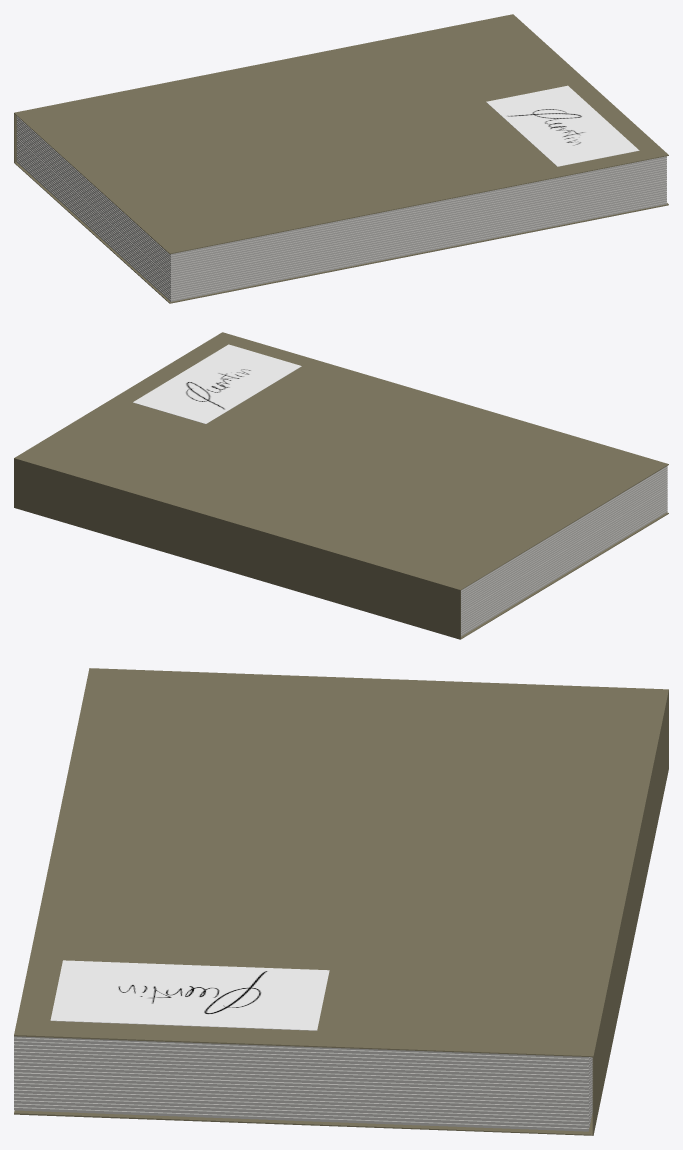
The model's file is llibreta_tancada.FBX.
The picture shows the model from 3 angles, top to bottom: view 1: azimuth 30°, elevation 25°; view 2: azimuth 150°, elevation 25°; view 3: azimuth 270°, elevation 25°; orthographic projection. The views are drawn at different scales.
Parts seen in each view (by area): view 1: Object001; view 2: Object001; view 3: Object001.
Part boxes in pixels (x1=…): Object001: x1=14, y1=14, x2=668, y2=303; Object001: x1=14, y1=332, x2=668, y2=639; Object001: x1=14, y1=668, x2=668, y2=1135.
Size of the model in its own units: 6.27 by 0.6039 by 4.47.
